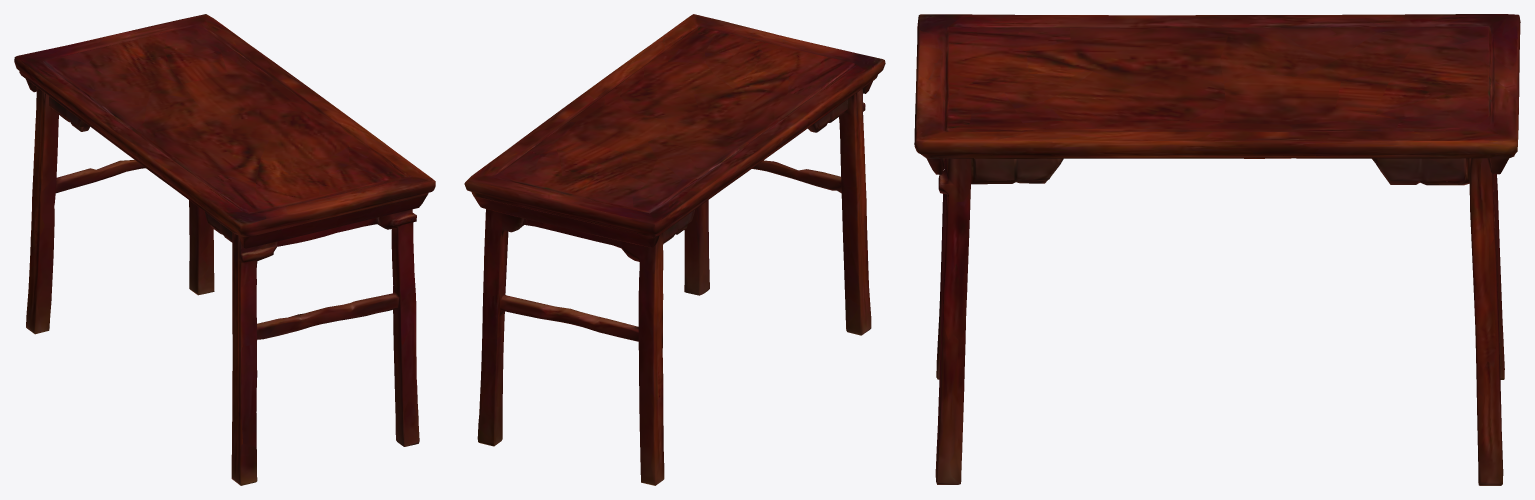
File: hw_shuan.glb
The picture shows the model from 3 angles, left to right: view 1: azimuth 30°, elevation 25°; view 2: azimuth 150°, elevation 25°; view 3: azimuth 270°, elevation 25°; orthographic projection. The views are drawn at different scales.
Visible parts, largest first — view 1: tripo_node_2b83e13e-ccc4-48f6-96ec-69913014e39d; view 2: tripo_node_2b83e13e-ccc4-48f6-96ec-69913014e39d; view 3: tripo_node_2b83e13e-ccc4-48f6-96ec-69913014e39d.
Boxes of the visible parts, x1=… form: tripo_node_2b83e13e-ccc4-48f6-96ec-69913014e39d: x1=14, y1=14, x2=435, y2=485; tripo_node_2b83e13e-ccc4-48f6-96ec-69913014e39d: x1=464, y1=14, x2=885, y2=485; tripo_node_2b83e13e-ccc4-48f6-96ec-69913014e39d: x1=914, y1=14, x2=1520, y2=485.
Bounding box in the file's own units: 0.7626 × 0.9999 × 1.55.
Materials: 1 (1 with a texture image).
